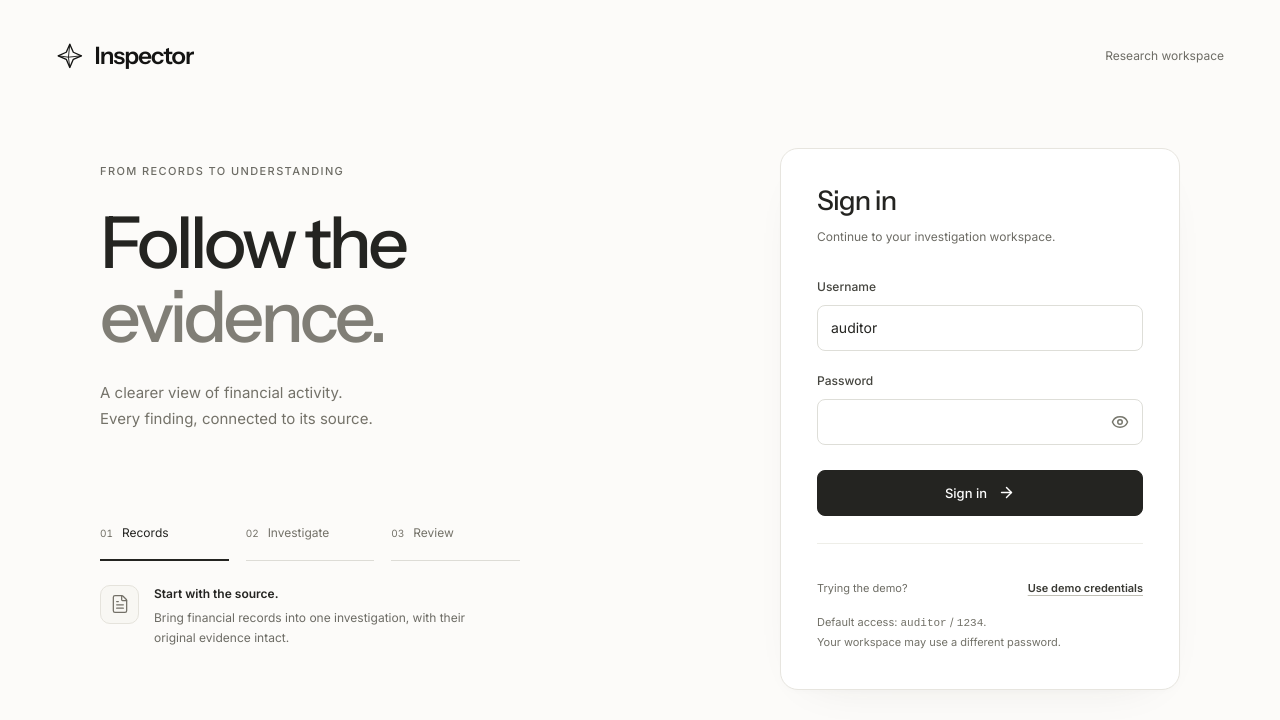
DemoLogin › offers English labels and accessible workflow controls
Expected: the field labelled "Username" holds "auditor", [817, 305, 1143, 351]
Click the button "02 Investigate" at [310, 535], box [246, 509, 374, 561]
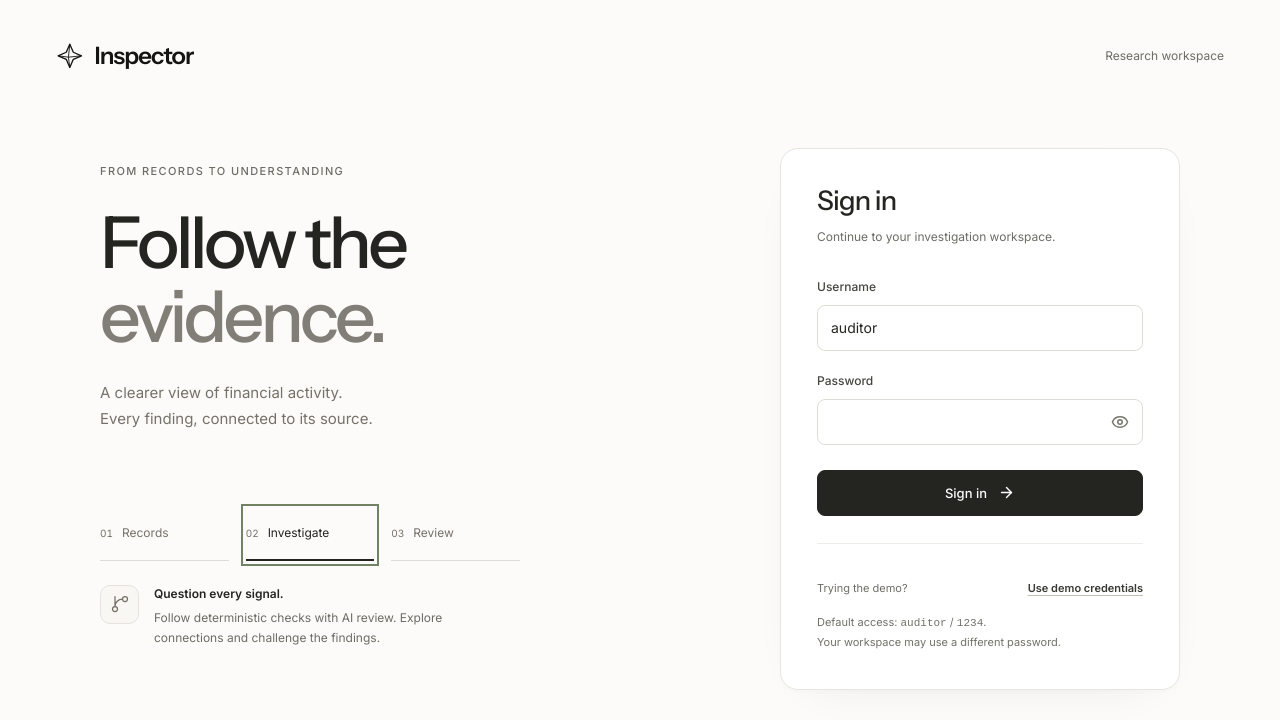
Expected: the heading "Question every signal." is shown, [154, 586, 284, 601]
